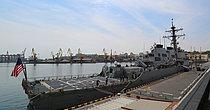MIL_Ship: (27, 21, 196, 103)
